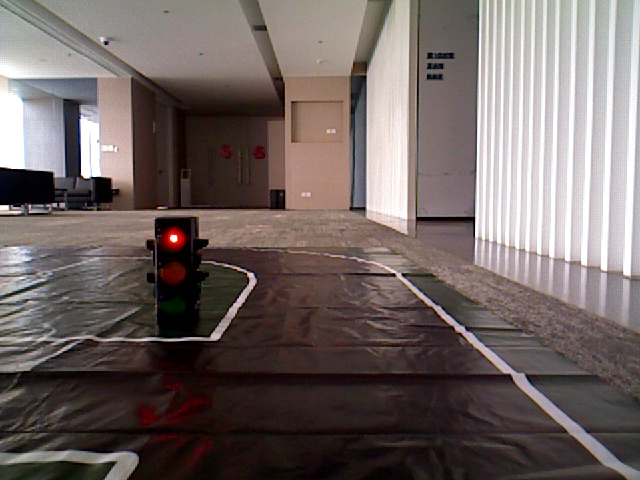red: (155, 219, 196, 329)
